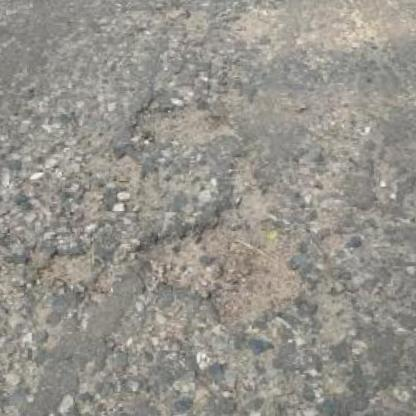pothole: (128, 183, 304, 328), (128, 97, 236, 152), (33, 247, 98, 287)
